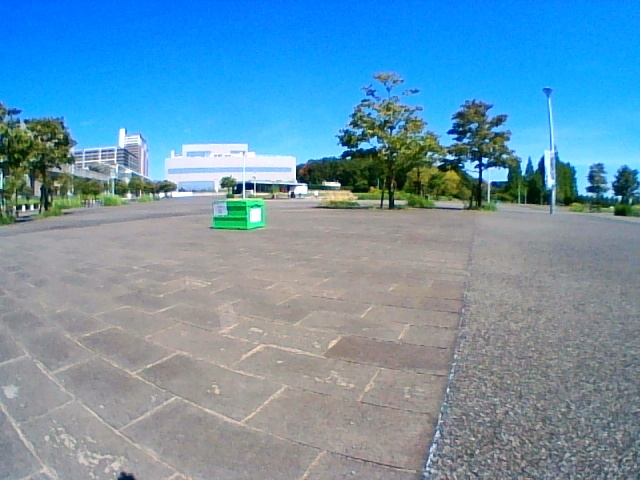green_box: (211, 199, 263, 228)
tag: (214, 203, 226, 215)
